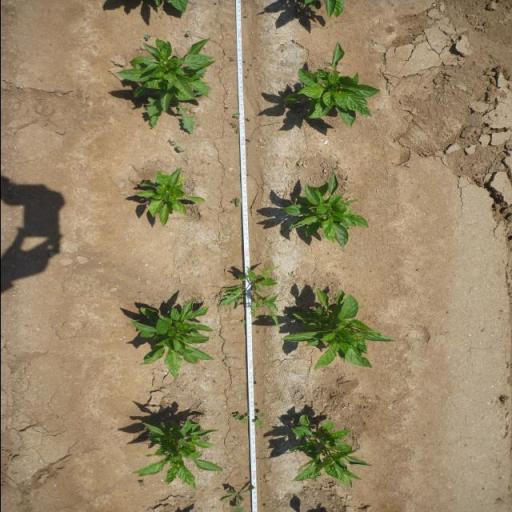plant: (281, 286, 393, 372), (280, 41, 382, 129), (127, 296, 217, 382), (285, 412, 374, 490), (128, 414, 222, 485), (280, 173, 370, 246), (116, 39, 214, 103), (135, 167, 205, 228), (300, 0, 346, 19)
weed: (219, 267, 279, 326), (143, 101, 194, 135), (218, 485, 253, 512), (230, 410, 264, 425), (230, 197, 240, 207), (174, 145, 186, 153), (166, 139, 176, 146), (229, 122, 239, 128), (246, 136, 254, 143), (232, 128, 240, 134), (143, 34, 151, 40), (233, 112, 239, 118), (251, 248, 257, 254), (185, 31, 192, 36), (331, 168, 339, 172), (245, 118, 251, 122)
